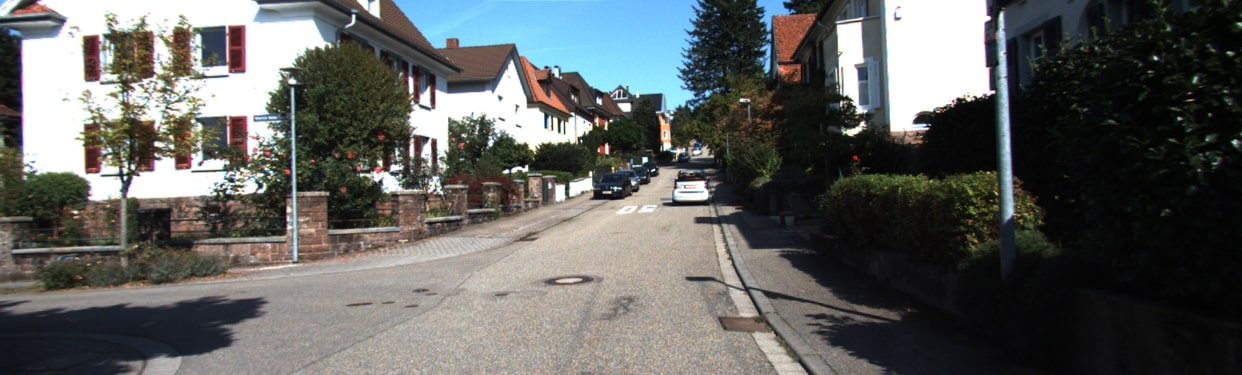car: (671, 168, 715, 210), (590, 167, 632, 203), (635, 159, 661, 184), (621, 163, 641, 190)
